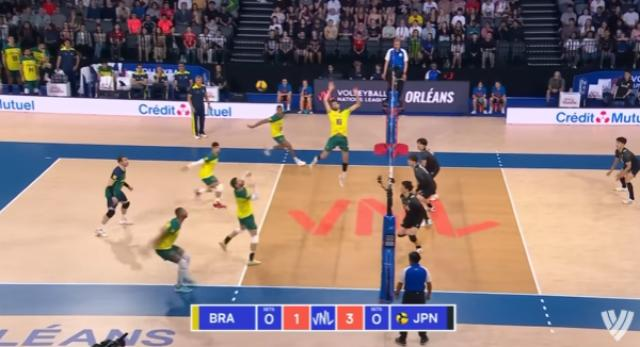Levantador: (221, 168, 275, 268), (409, 132, 441, 182)
Libero: (90, 149, 138, 249)
bola: (253, 71, 269, 99)
